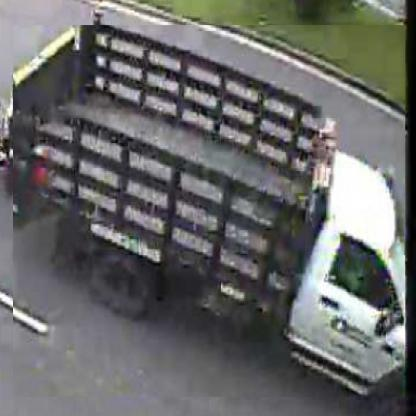truck: (14, 26, 407, 399)
